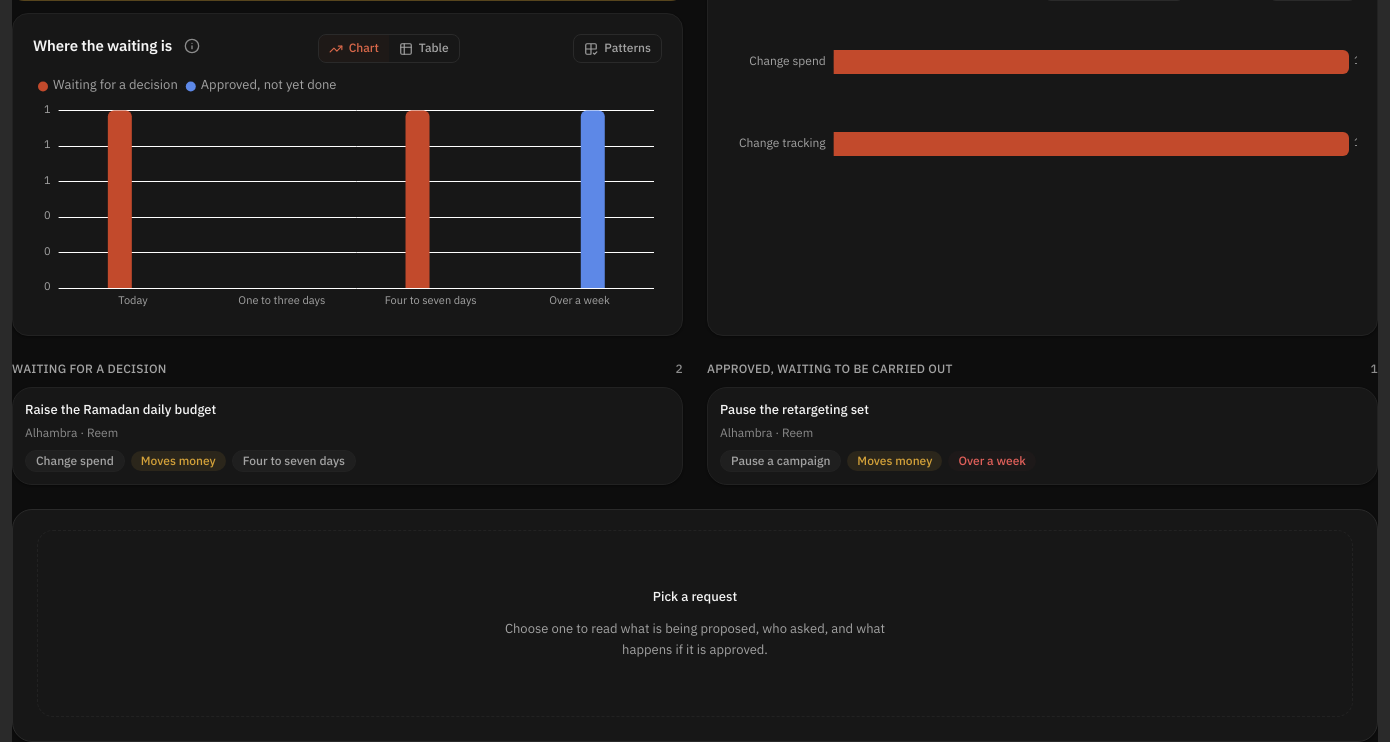
Scenario: a request › shows the whole proposal, field by field, with its version
(page scrolled)
Click the button "Raise the Ramadan daily budget".
click(121, 409)  # box [12,387,683,485]
(page scrolled)
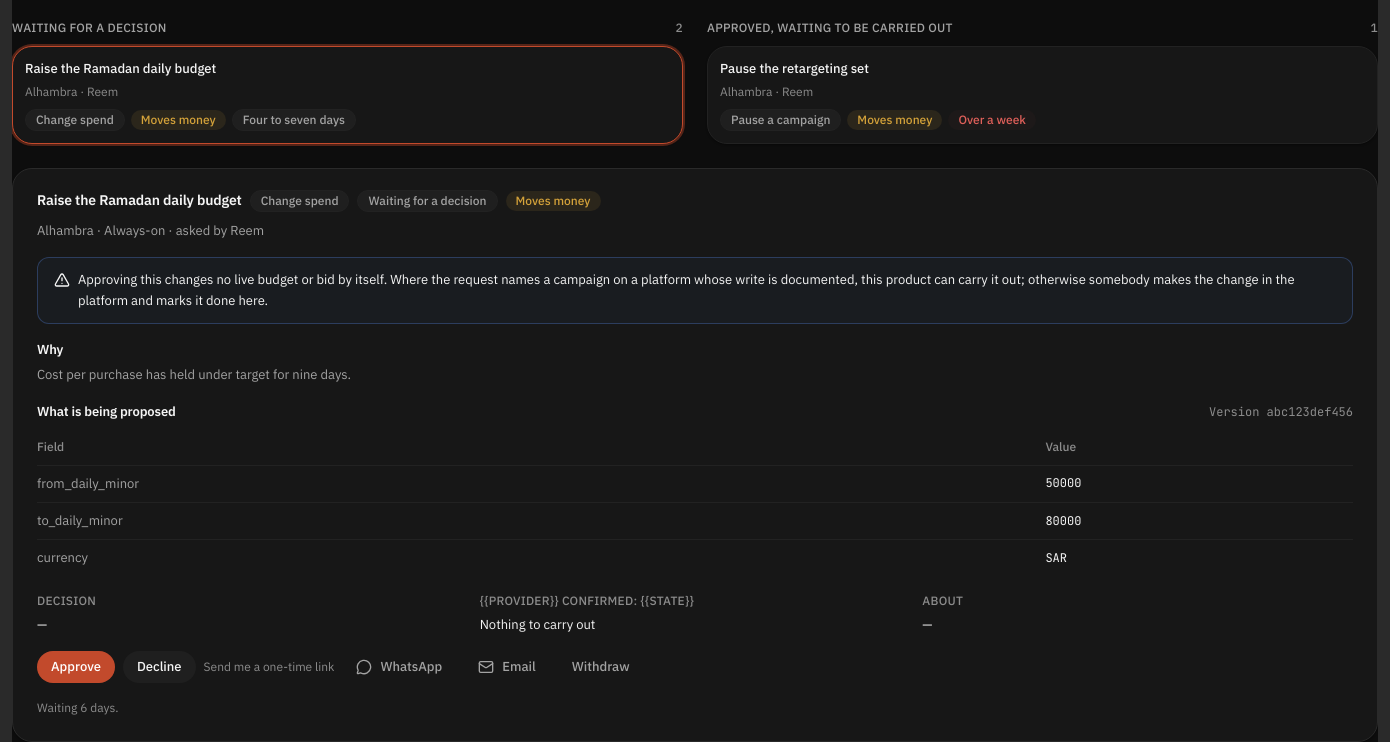
Expected: the column heading "to_daily_minor" is shown, [37,502,1045,539]
Expected: the text "80000" is shown, [1045,502,1353,539]
Expected: the text "Version abc123def456" is shown, [1209,403,1353,422]
